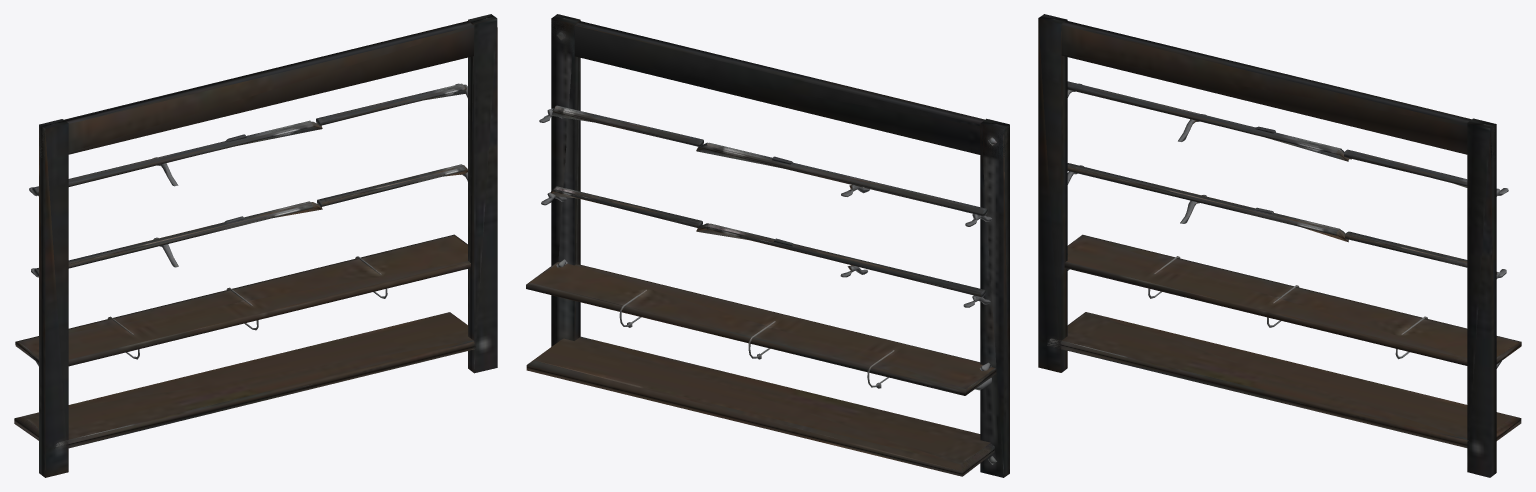
File: mall-gun-wall-rack.glb
3 renders of one model, left to right at view 1: azimuth 30°, elevation 25°; view 2: azimuth 150°, elevation 25°; view 3: azimuth 330°, elevation 25°, orthographic.
Visible parts, largest first — view 1: gun-wall-rack; view 2: gun-wall-rack; view 3: gun-wall-rack.
Boxes of the visible parts, x1,y1,x2,y2 form: gun-wall-rack: [14, 14, 497, 477]; gun-wall-rack: [526, 14, 1009, 477]; gun-wall-rack: [1038, 14, 1521, 477].
Bounding box in the file's own units: 2 × 1.48 × 0.3075.
1 material, 1 textured.
